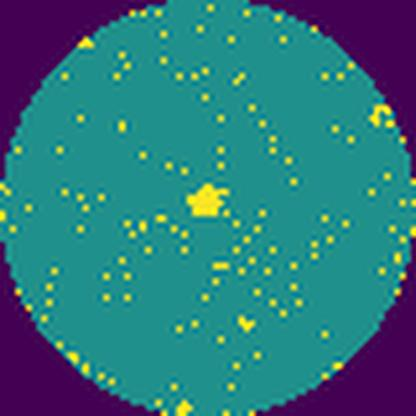Center: (187, 184, 230, 217)
